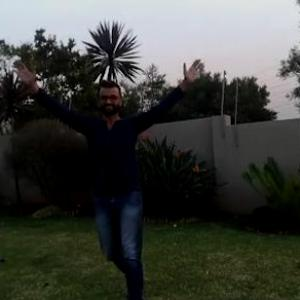takeoff: (23, 62, 199, 299)
